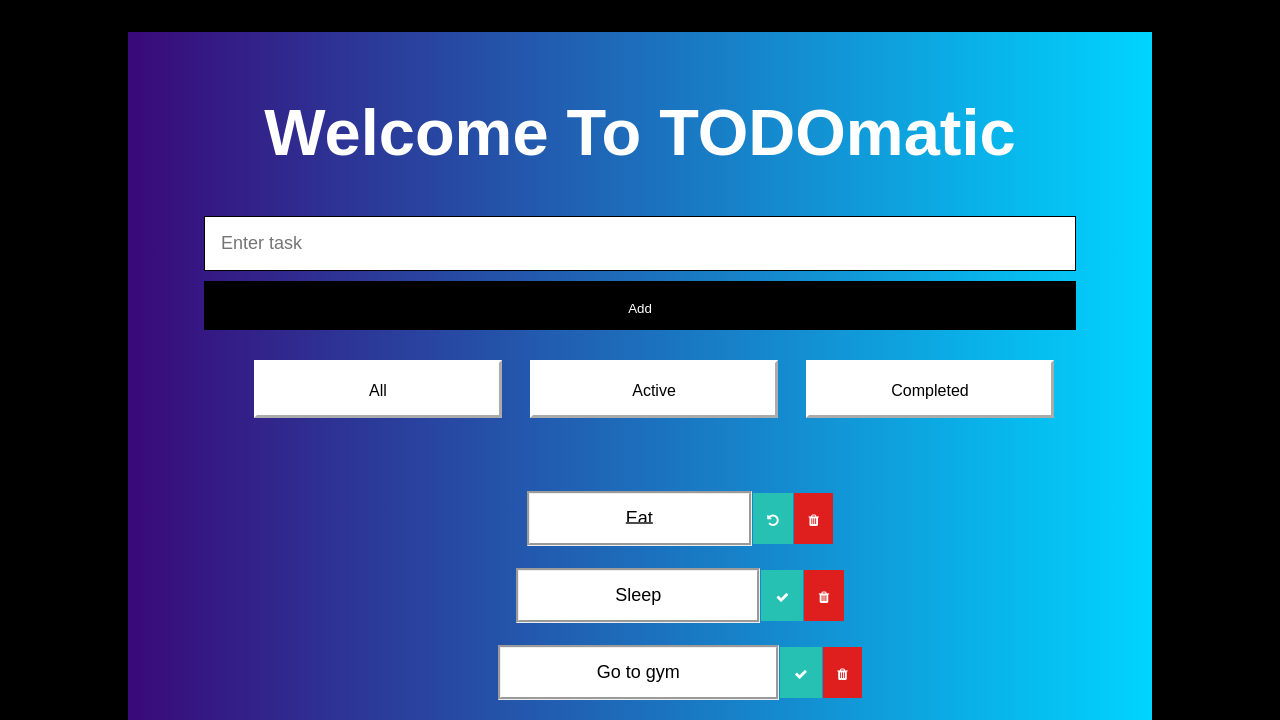
Test: Checking all functionalities › Should filter the active and incomplete tasks › Should show all the completed tasks
Click the 2nd button with class "btn__done".
click(782, 596)  # box [761, 570, 803, 621]
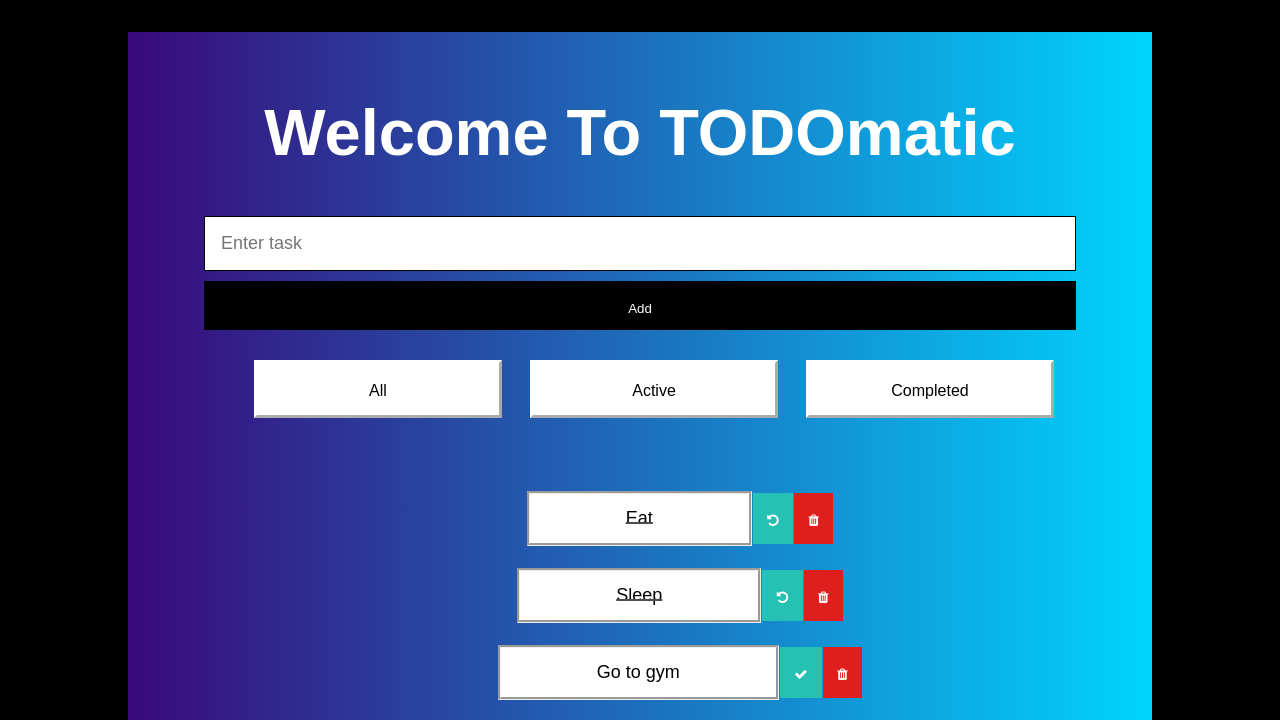
Click the button "Completed".
click(930, 389)  # box [806, 360, 1054, 418]
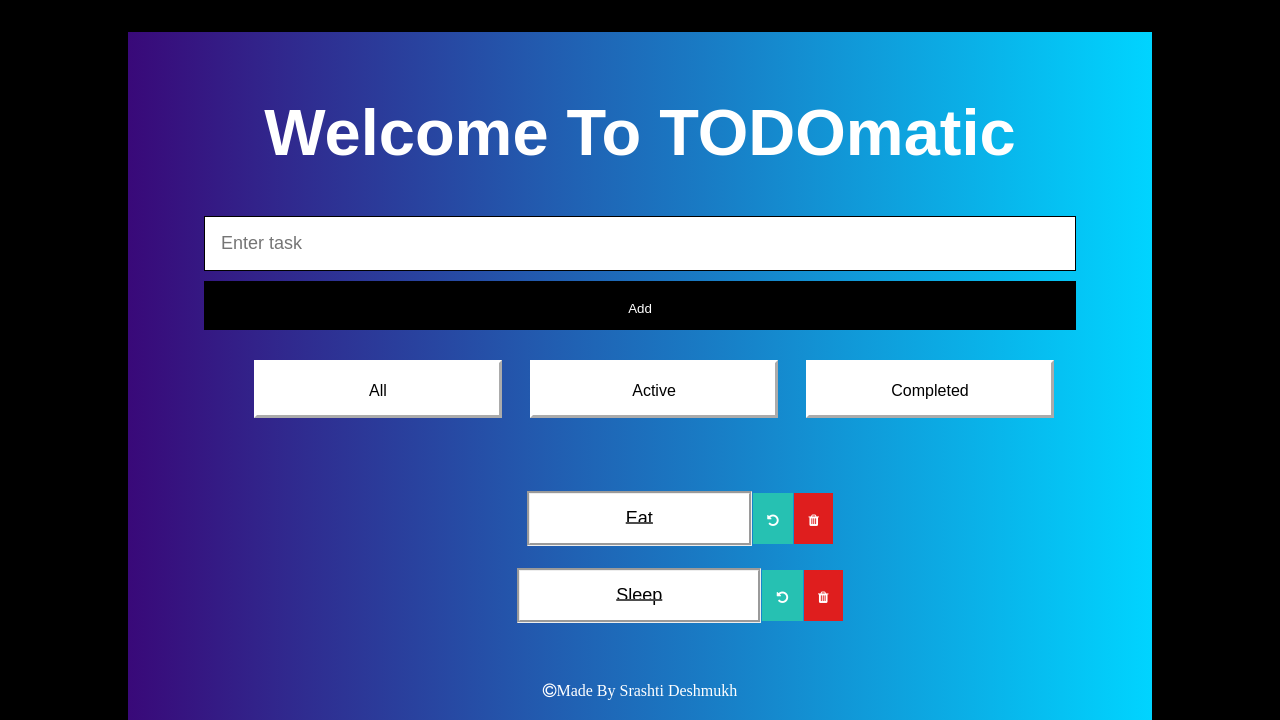
Now the number of lists with class "taskList" is 2, box [527, 491, 833, 546]; [517, 568, 843, 623]
